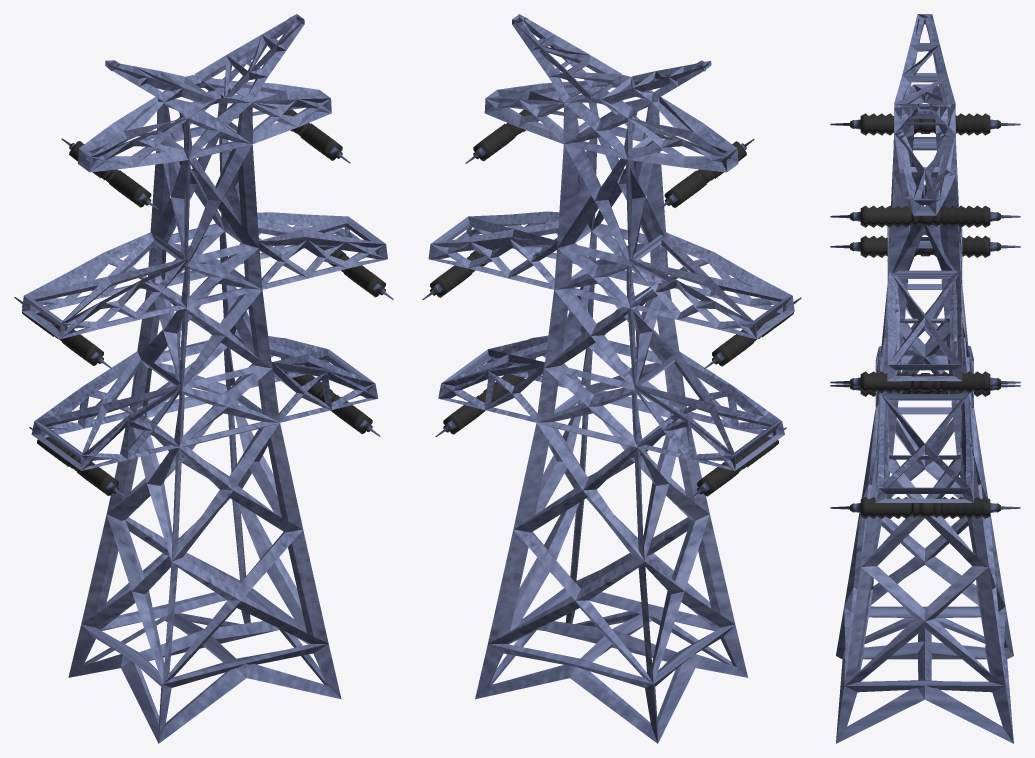
3 views of the same model, side by side, from view 1: azimuth 30°, elevation 25°; view 2: azimuth 150°, elevation 25°; view 3: azimuth 270°, elevation 25° (orthographic).
Visible parts, largest first — view 1: TowerV2_Tower_0; view 2: TowerV2_Tower_0; view 3: TowerV2_Tower_0.
Boxes of the visible parts, x1=… form: TowerV2_Tower_0: x1=14, y1=14, x2=393, y2=743; TowerV2_Tower_0: x1=422, y1=14, x2=801, y2=743; TowerV2_Tower_0: x1=830, y1=14, x2=1020, y2=743.
Size of the model in its own units: 16.62 by 31.39 by 8.45.
Materials: 1 (1 with a texture image).
